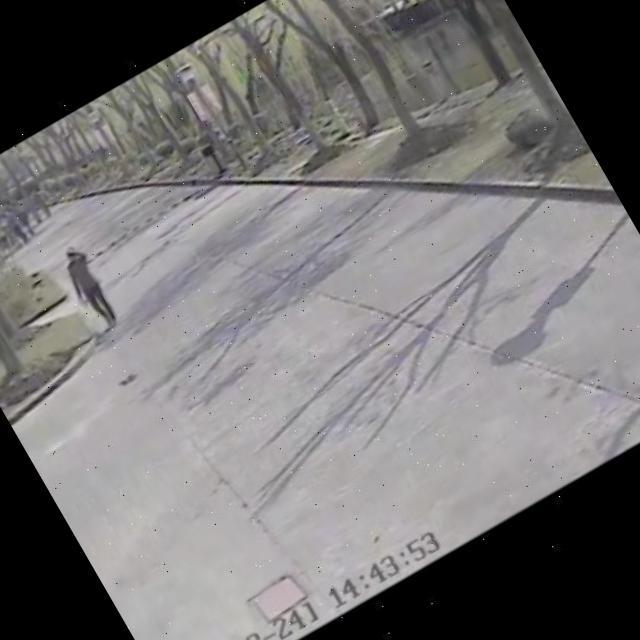person: (46, 234, 129, 340)
